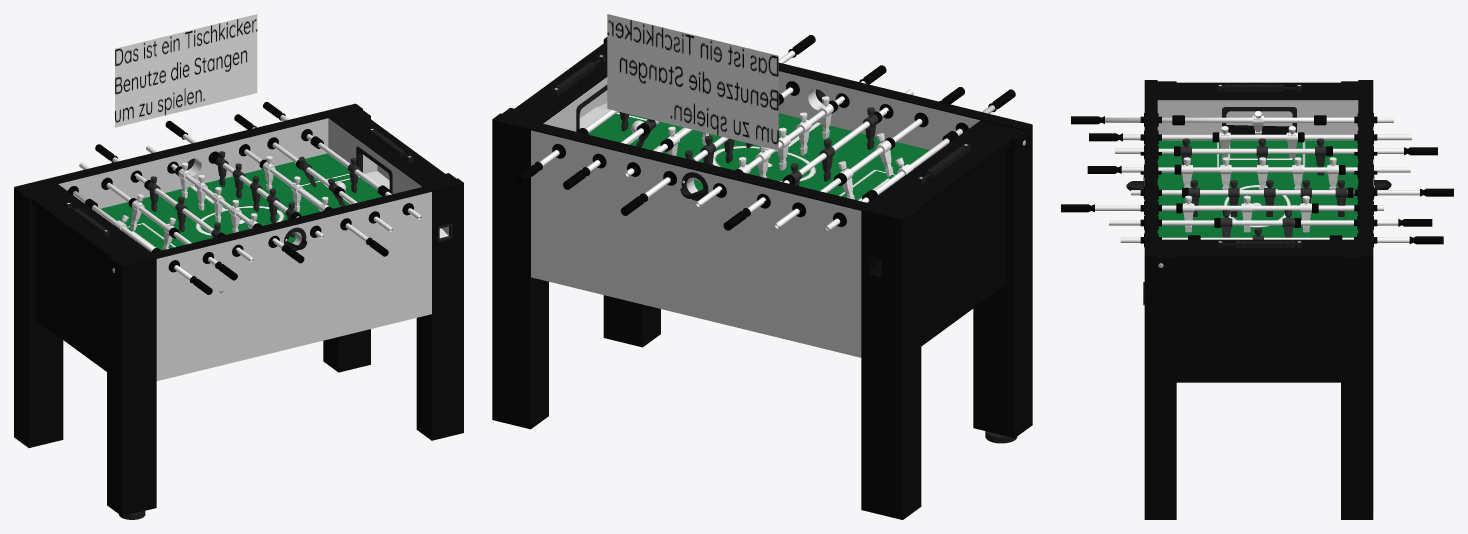
Rendered from tischkickerv4_3.glb.
3 renders of one model, left to right at view 1: azimuth 30°, elevation 25°; view 2: azimuth 150°, elevation 25°; view 3: azimuth 270°, elevation 25°, orthographic. The views are drawn at different scales.
Parts seen in each view (by area): view 1: kicker, Plane.005, Circle.099, Circle.096, Circle.075, Circle.071, Stopper1.001, stamge1.001, Circle.069, Plane.041; view 2: kicker, Plane.005, Circle.096, Circle.071, Stopper1.001, Plane.041, Circle.099, Circle.075, stamge1.001, Circle.069; view 3: kicker, Circle.096, Circle.099, Circle.075, Circle.071, Stopper1.001, Circle.069, Plane.041, stamge1.001, counter.001, Cube, counter.
Boxes of the visible parts, left/top/right/bottom form: kicker: left=14, top=103, right=463, bottom=516; Plane.005: left=115, top=14, right=257, bottom=127; Circle.099: left=165, top=120, right=323, bottom=238; Circle.096: left=146, top=145, right=304, bottom=263; Circle.075: left=244, top=149, right=388, bottom=256; Circle.071: left=95, top=144, right=253, bottom=262; Stopper1.001: left=79, top=162, right=237, bottom=280; stamge1.001: left=263, top=102, right=421, bottom=219; Circle.069: left=234, top=114, right=392, bottom=231; Plane.041: left=73, top=191, right=212, bottom=294; kicker: left=492, top=37, right=1032, bottom=519; Plane.005: left=607, top=14, right=778, bottom=150; Circle.096: left=696, top=65, right=886, bottom=206; Circle.071: left=723, top=89, right=913, bottom=230; Stopper1.001: left=775, top=87, right=964, bottom=228; Plane.041: left=825, top=89, right=1015, bottom=230; Circle.099: left=620, top=87, right=793, bottom=215; Circle.075: left=625, top=35, right=815, bottom=176; stamge1.001: left=515, top=110, right=629, bottom=184; Circle.069: left=563, top=48, right=751, bottom=189; kicker: left=1144, top=80, right=1373, bottom=519; Circle.096: left=1087, top=157, right=1410, bottom=189; Circle.099: left=1131, top=180, right=1453, bottom=216; Circle.075: left=1061, top=195, right=1383, bottom=232; Circle.071: left=1115, top=138, right=1437, bottom=175; Stopper1.001: left=1089, top=126, right=1411, bottom=157; Circle.069: left=1109, top=210, right=1432, bottom=237; Plane.041: left=1071, top=111, right=1393, bottom=134; stamge1.001: left=1120, top=227, right=1443, bottom=244; counter.001: left=1235, top=240, right=1294, bottom=248; Cube: left=1222, top=107, right=1296, bottom=132; counter: left=1224, top=84, right=1283, bottom=91.
Size of what is drawn, in the model's own units: 3.66 by 3.78 by 3.44.
99 materials, 2 textured.
